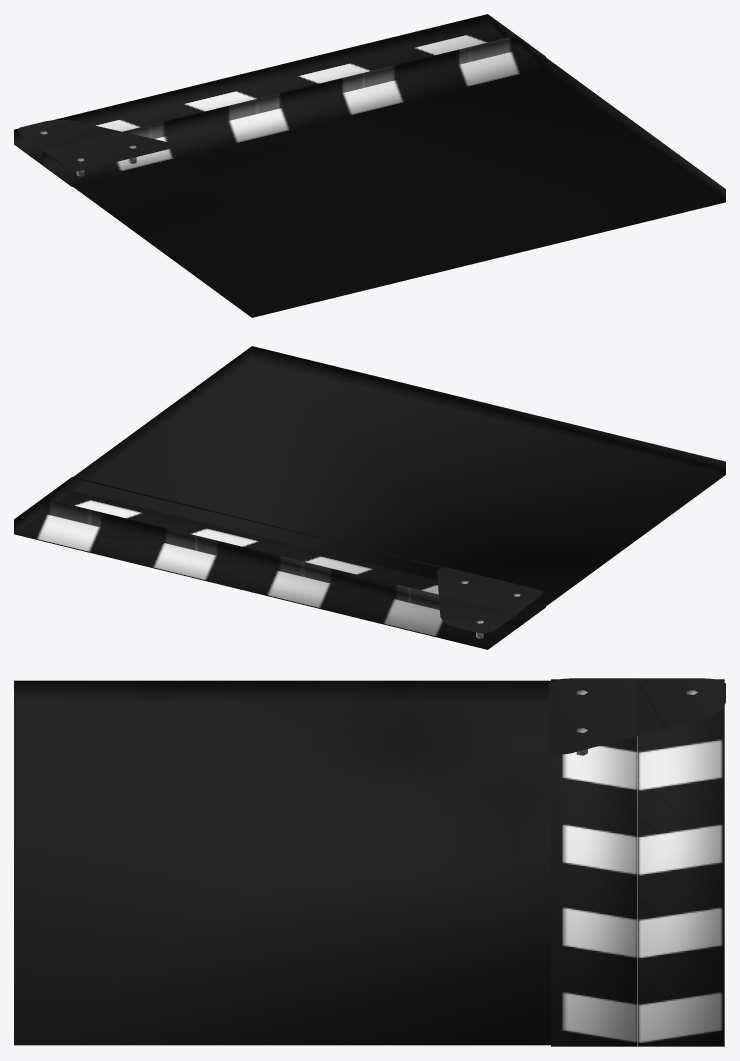
The model's file is clapperboard.glb.
3 renders of one model, top to bottom at view 1: azimuth 30°, elevation 25°; view 2: azimuth 150°, elevation 25°; view 3: azimuth 270°, elevation 25°, orthographic. The views are drawn at different scales.
Parts seen in each view (by area): view 1: clapperboard; view 2: clapperboard; view 3: clapperboard.
Boxes of the visible parts, bbox=[...] form: clapperboard: bbox=[14, 14, 725, 317]; clapperboard: bbox=[14, 346, 725, 649]; clapperboard: bbox=[14, 678, 725, 1046].
Bounding box in the file's own units: 2.62 × 0.0832 × 2.28.
1 material, 1 textured.
